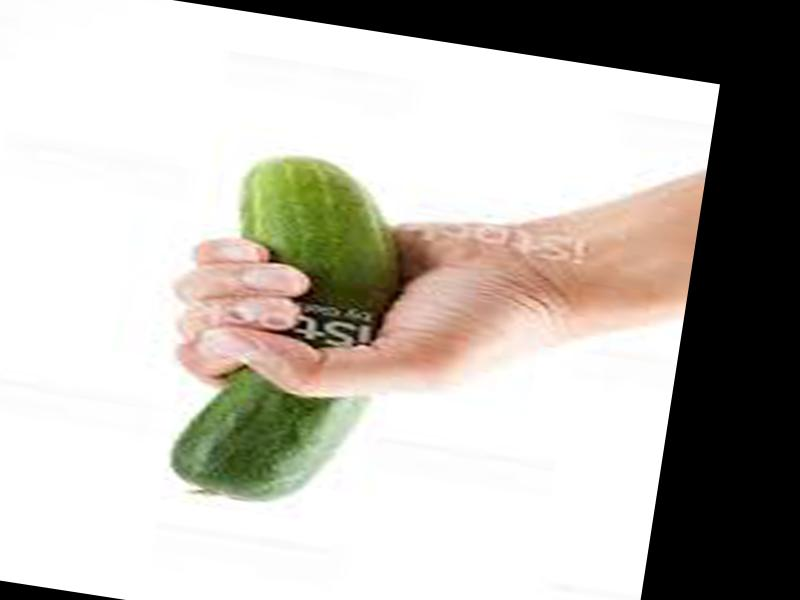Cucumber: (161, 145, 417, 519)
